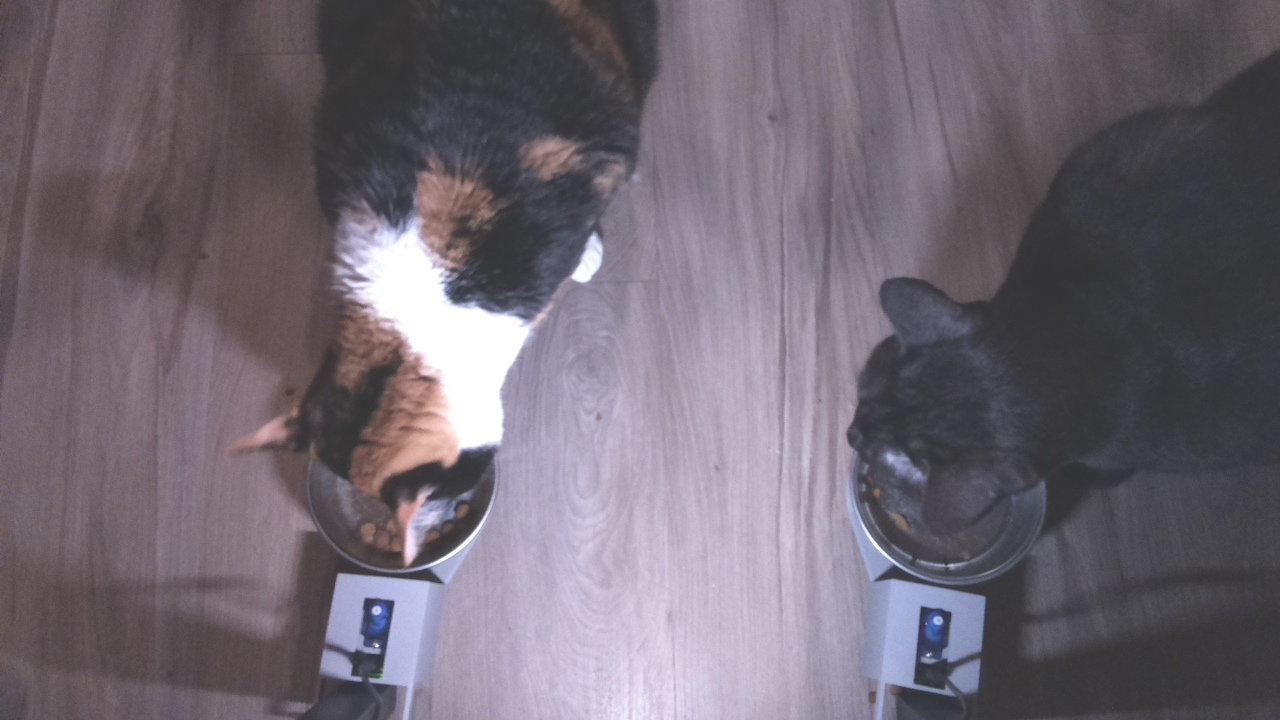bella_eating: (232, 298, 518, 579)
saki_eating: (829, 268, 1070, 584)
